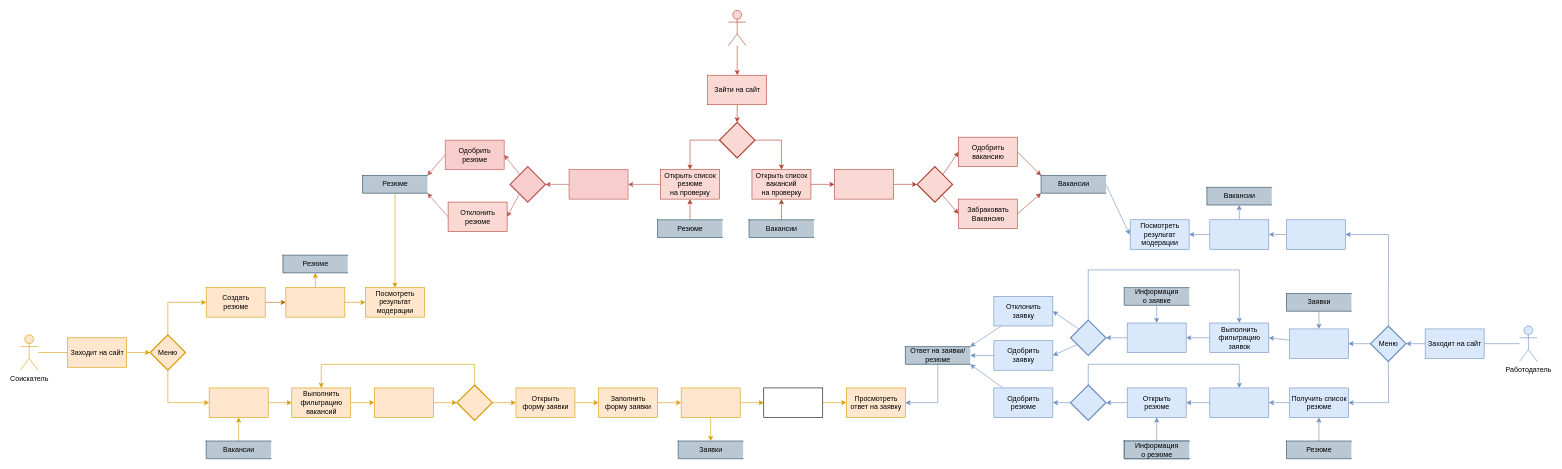
The diagram is 1562 pixels wide and 469 high, and some of its shapes have lost their labels. Each missing label, with the centre of its shape:
"Выполнить фильтрацию резюме" goes at [1239,402].
"Модератор" goes at [737,28].
"Обработка заявки" goes at [793,402].
"Открыть карточку вакансии" goes at [403,402].
"Отправить вакансию на проверку" goes at [1239,234].
"Отправить заявку" goes at [710,402].
"Отправить резюме на проверку" goes at [315,302].
"Получить список вакансий" goes at [238,402].
"Получить список заявок" goes at [1318,343].
"Просмотреть заявку" goes at [1156,337].
"Просмотреть карточку вакансии" goes at [864,184].
"Просмотреть резюме" goes at [598,184].
"Создать вакансию" goes at [1315,234].
